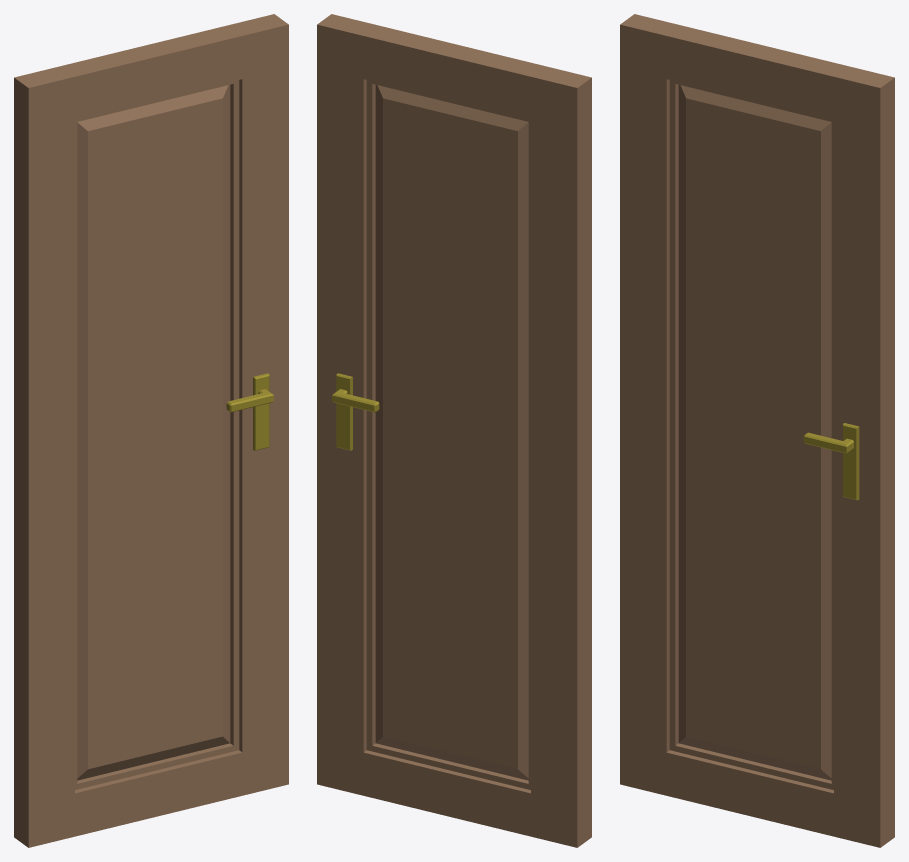
The model's file is Door.fbx.
3 renders of one model, left to right at view 1: azimuth 30°, elevation 25°; view 2: azimuth 150°, elevation 25°; view 3: azimuth 330°, elevation 25°, orthographic.
Parts seen in each view (by area): view 1: door; view 2: door; view 3: door.
Boxes of the visible parts, x1,y1,x2,y2 form: door: (14,14,288,847); door: (317,14,591,847); door: (620,14,894,847).
Bounding box in the file's own units: 83 × 232 × 18.39.
